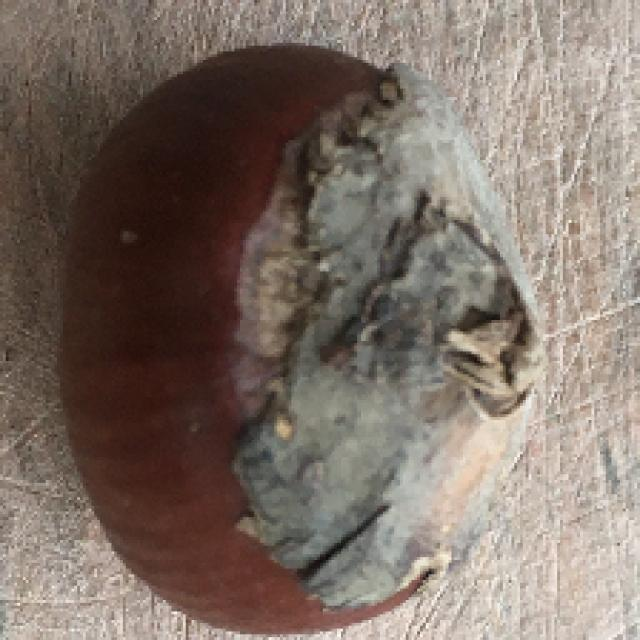damagedHazelnut: (53, 36, 540, 640)
